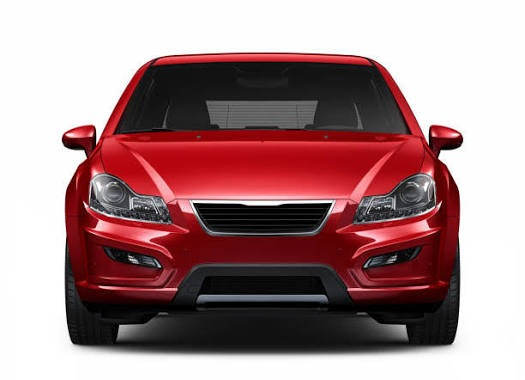car: (58, 49, 467, 342)
